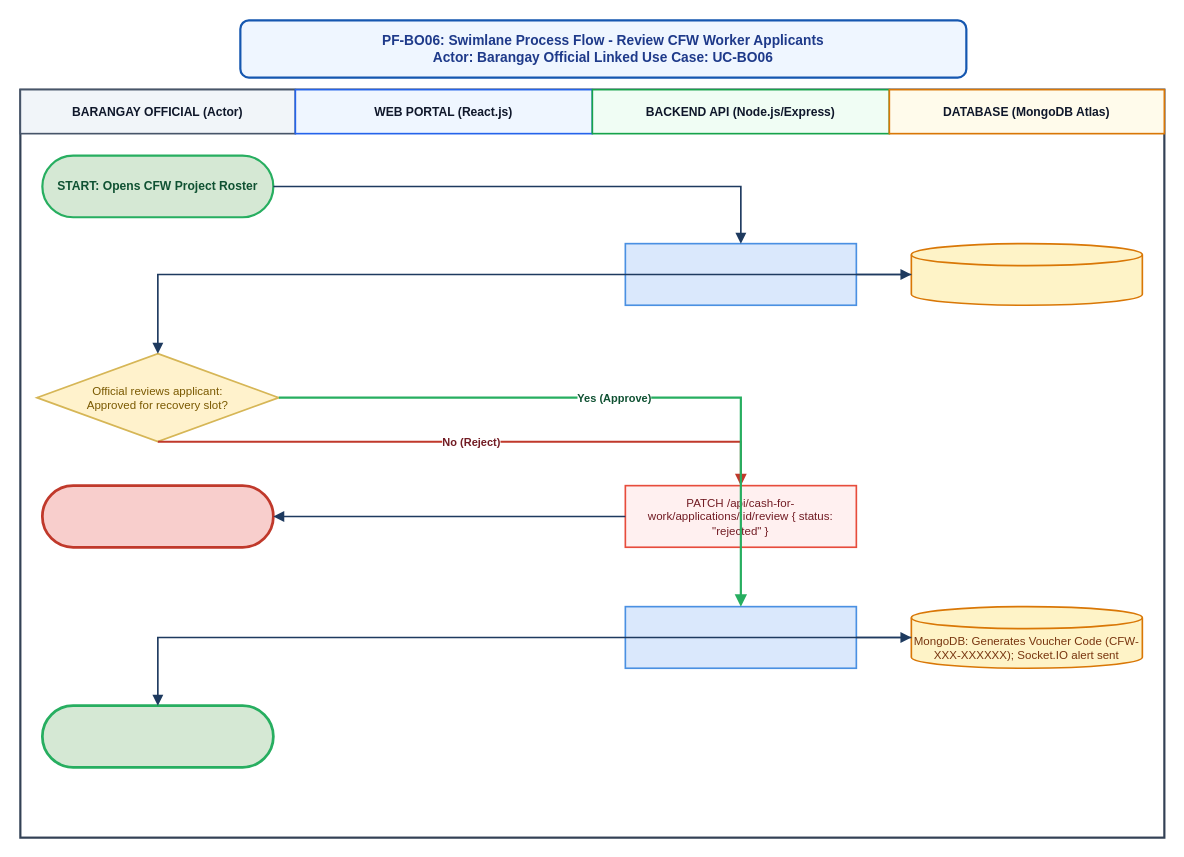
This 1184x857 diagram has some shape labels left out. Here are the shapes that lost their labels. From the top down, the centre of each, then its label:
point 740,274: GET /api/cash-for-work/projects/:id/applicants ranked by Vulnerability Score
point 1026,274: MongoDB: Fetches applicants with household priority scores
point 157,516: END: Applicant rejected
point 740,637: PATCH /api/cash-for-work/applications/:id/review { status: "approved_for_work" }
point 157,736: END: Worker approved & voucher issued
